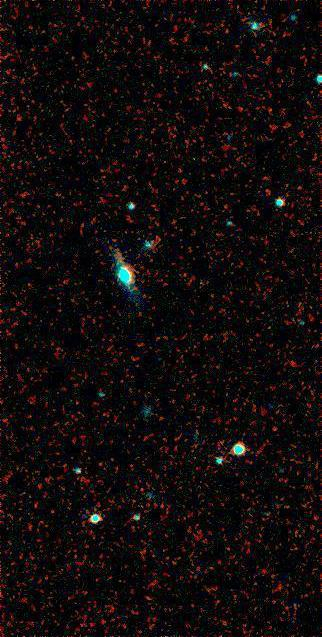star: (259, 414, 289, 444)
